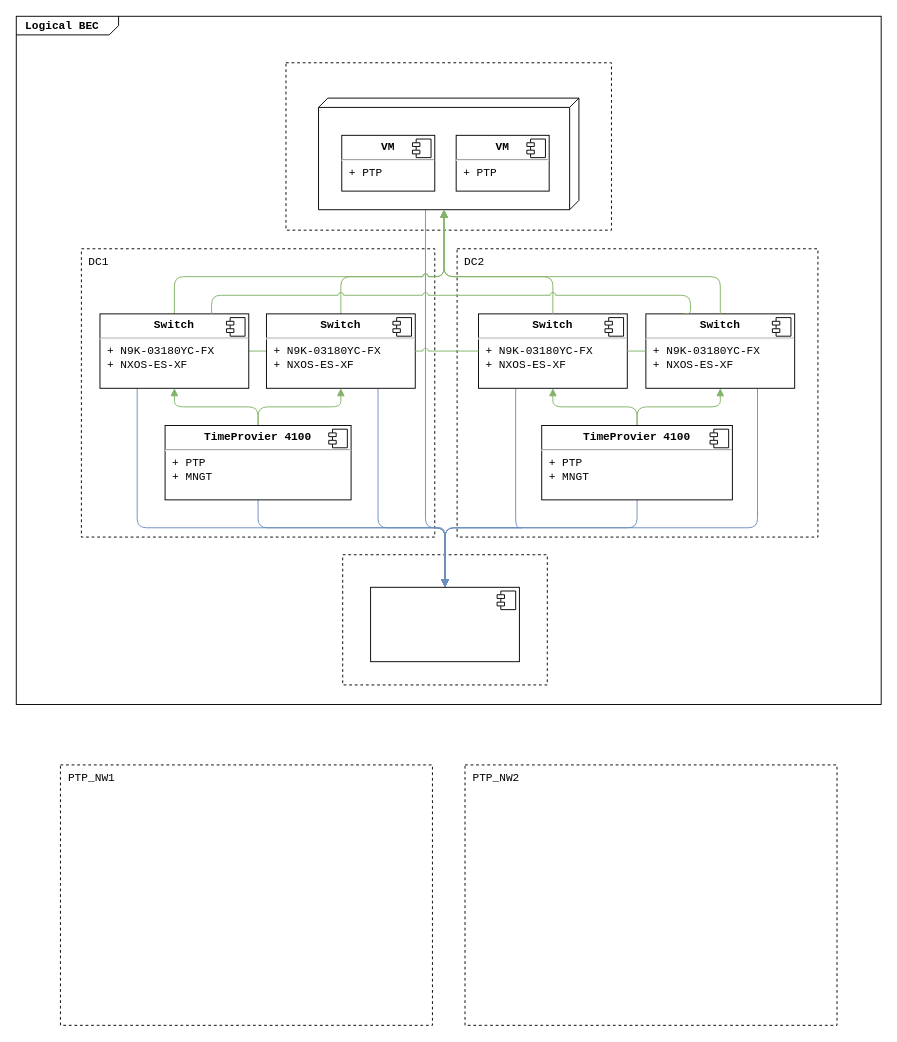
Some shapes in this 897 by 1042 pixel diagram are drawn without their labels. The shapes that lost their labels are listed below. From the top down, each one's box as (x1, y1, x2, y2) in pixels, then its label:
(285, 62, 611, 230): BEC
(318, 97, 579, 210): ESXi
(342, 554, 547, 685): JN_OPR
(370, 586, 519, 662): Elastic Search + PTP collector
